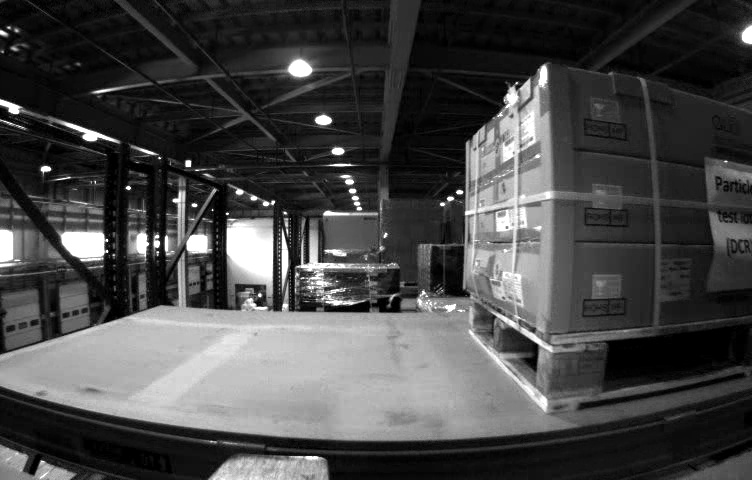True Barcode: (658, 257, 692, 299)
